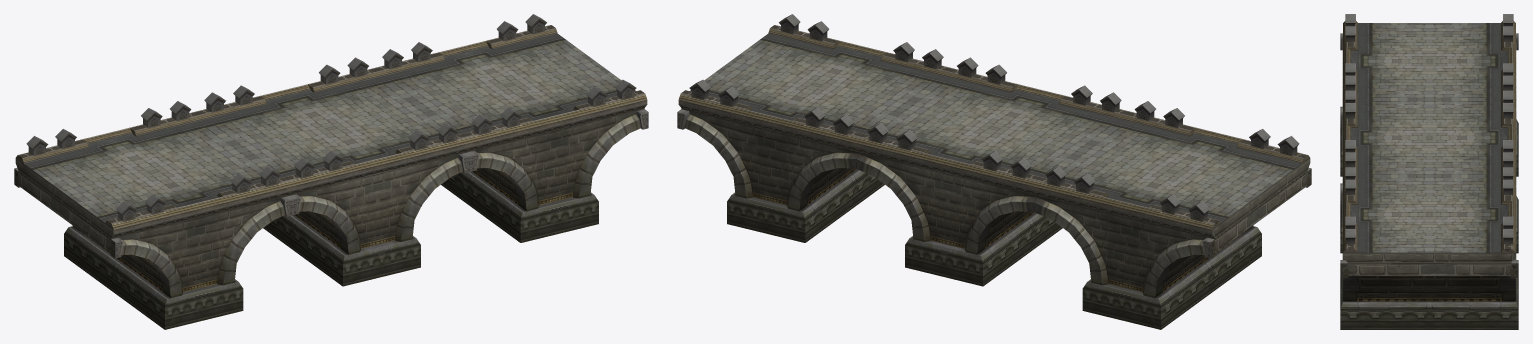
Rendered from new_sh_bridgeout.FBX.
3 renders of one model, left to right at view 1: azimuth 30°, elevation 25°; view 2: azimuth 150°, elevation 25°; view 3: azimuth 270°, elevation 25°, orthographic. The views are drawn at different scales.
Parts seen in each view (by area): view 1: new_sh_bridgeout; view 2: new_sh_bridgeout; view 3: new_sh_bridgeout.
Boxes of the visible parts, x1,y1,x2,y2 form: new_sh_bridgeout: (14, 14, 648, 329); new_sh_bridgeout: (677, 14, 1311, 329); new_sh_bridgeout: (1340, 14, 1518, 329).
Bounding box in the file's own units: 3860 × 901 × 1265.
Materials: 1 (1 with a texture image).
